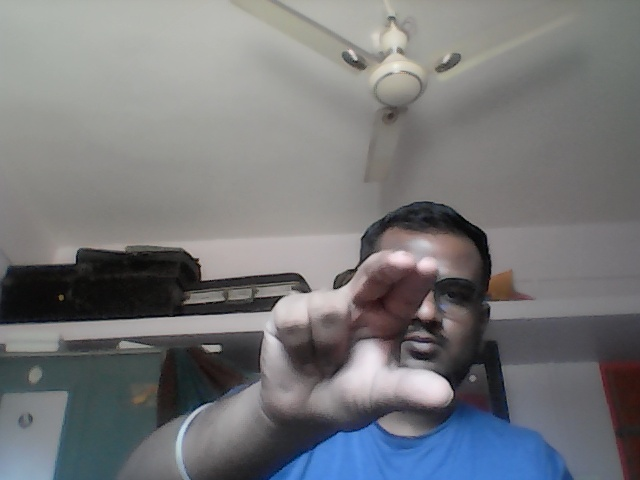No: (256, 245, 460, 434)
